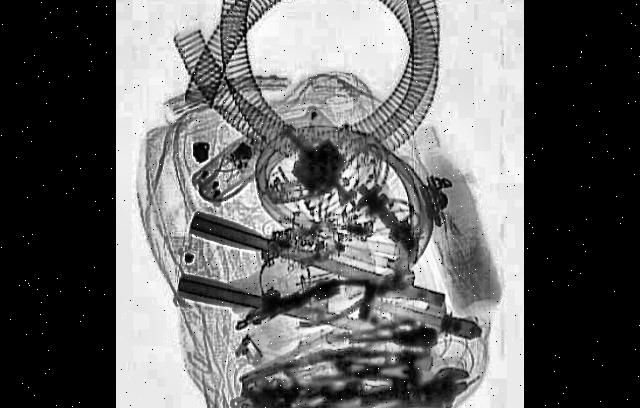Wrench: (316, 362, 469, 408)
